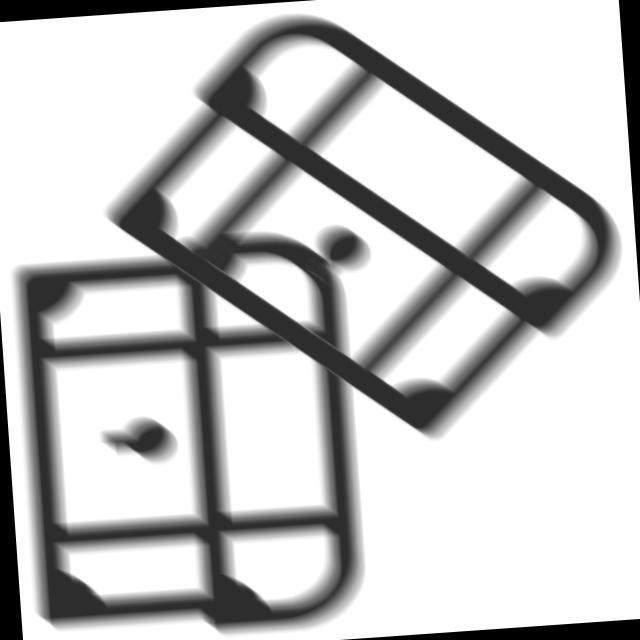treasure_box: (72, 1, 640, 472), (2, 215, 384, 640)
